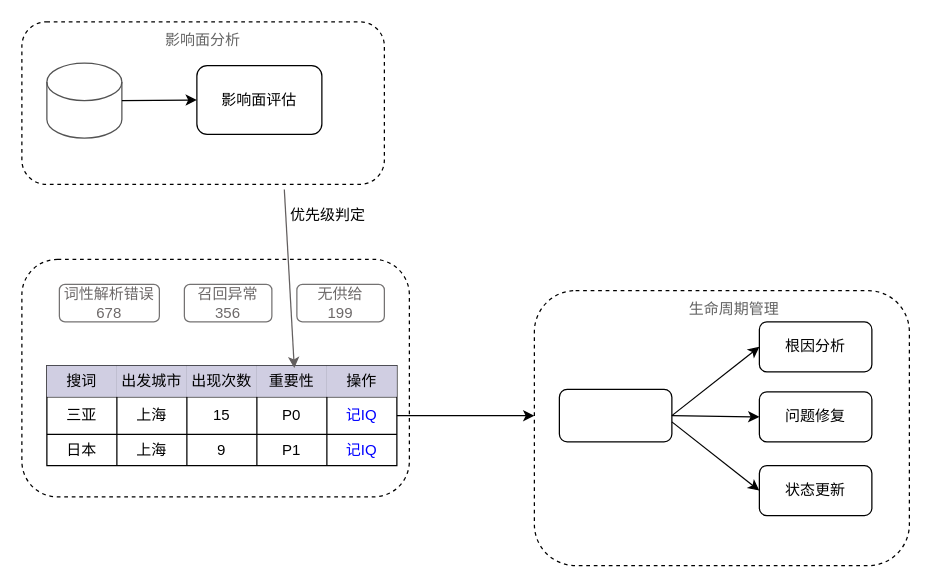
The diagram is 931 pixels wide and 588 high, and some of its shapes have lost their labels. Each missing label, with the box of its shape:
日志数据: (46, 62, 122, 138)
生成IQ: (558, 388, 672, 442)
